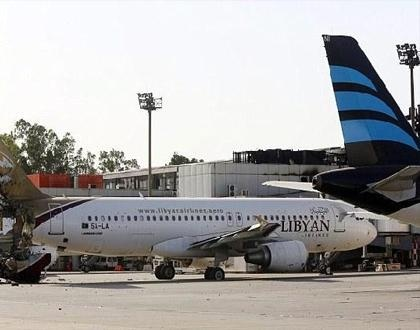airplane: (20, 174, 390, 273)
